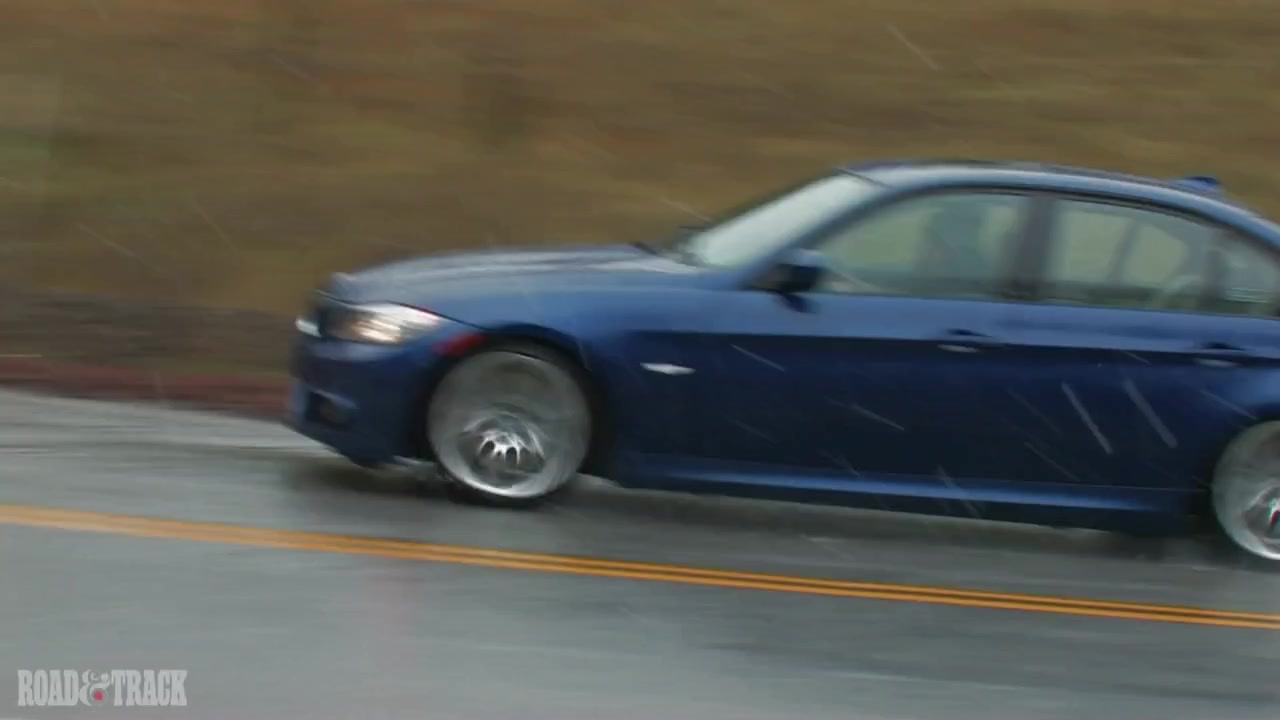car: (282, 157, 1280, 576)
